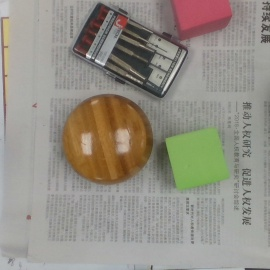chess: (65, 94, 154, 186)
